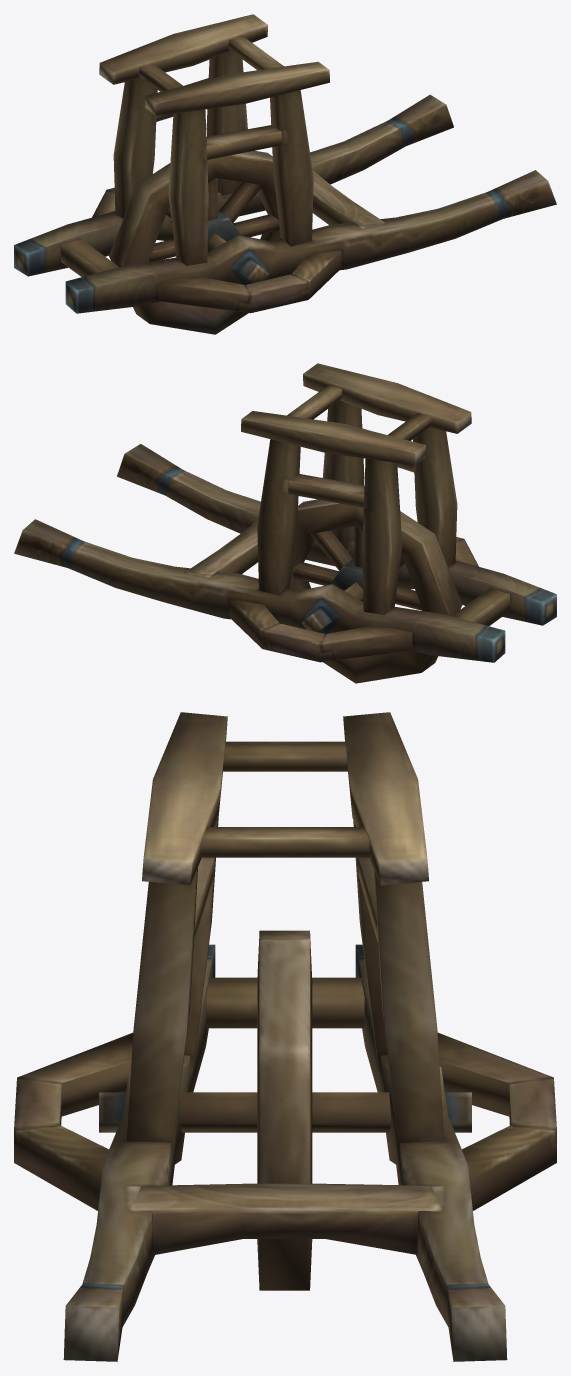
The model's file is Lty_xiaoche01.FBX.
The picture shows the model from 3 angles, top to bottom: view 1: azimuth 30°, elevation 25°; view 2: azimuth 150°, elevation 25°; view 3: azimuth 270°, elevation 25°; orthographic projection. The views are drawn at different scales.
Parts seen in each view (by area): view 1: Lty_xiaoche01; view 2: Lty_xiaoche01; view 3: Lty_xiaoche01.
Part boxes in pixels (x1,y1,x2,y2): Lty_xiaoche01: (14, 14, 556, 334); Lty_xiaoche01: (14, 363, 556, 683); Lty_xiaoche01: (14, 712, 556, 1361).
Bounding box in the file's own units: 90.39 × 50.29 × 51.28.
